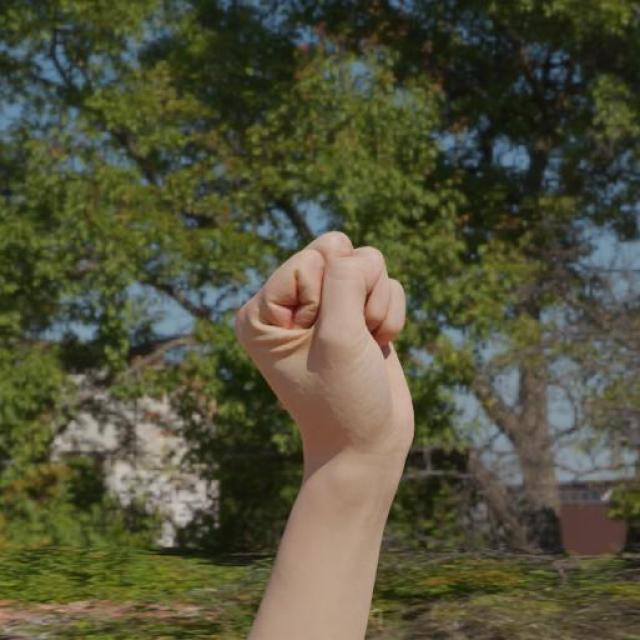S: (232, 226, 420, 467)
